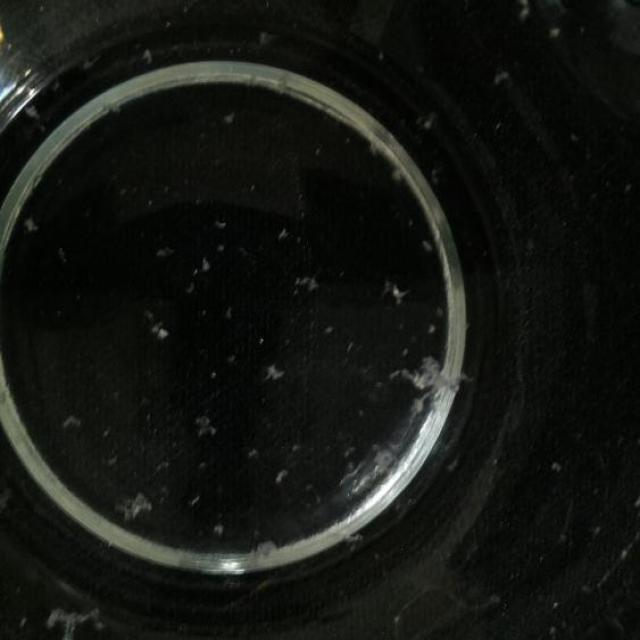fiber: (388, 348, 478, 408), (108, 479, 166, 525), (48, 596, 98, 639), (184, 393, 220, 435), (236, 536, 274, 571), (370, 444, 404, 482), (383, 271, 414, 311), (412, 226, 446, 262), (54, 406, 86, 444), (256, 356, 283, 398), (289, 270, 325, 300), (267, 220, 305, 246), (409, 110, 440, 140), (389, 154, 416, 186), (146, 308, 169, 345), (193, 254, 221, 284), (273, 461, 300, 489), (17, 214, 47, 238), (512, 0, 538, 24), (209, 509, 231, 537), (339, 530, 364, 553), (221, 108, 241, 134), (490, 68, 514, 88), (154, 453, 172, 478), (23, 101, 42, 122), (185, 489, 202, 510), (548, 22, 564, 40), (344, 336, 357, 356), (139, 42, 150, 62), (158, 242, 172, 257), (424, 322, 439, 336), (107, 386, 118, 402), (248, 448, 261, 461), (289, 441, 301, 455), (101, 426, 110, 444), (436, 302, 444, 320), (106, 453, 115, 468), (217, 211, 227, 224), (324, 322, 333, 336), (215, 240, 225, 252)
